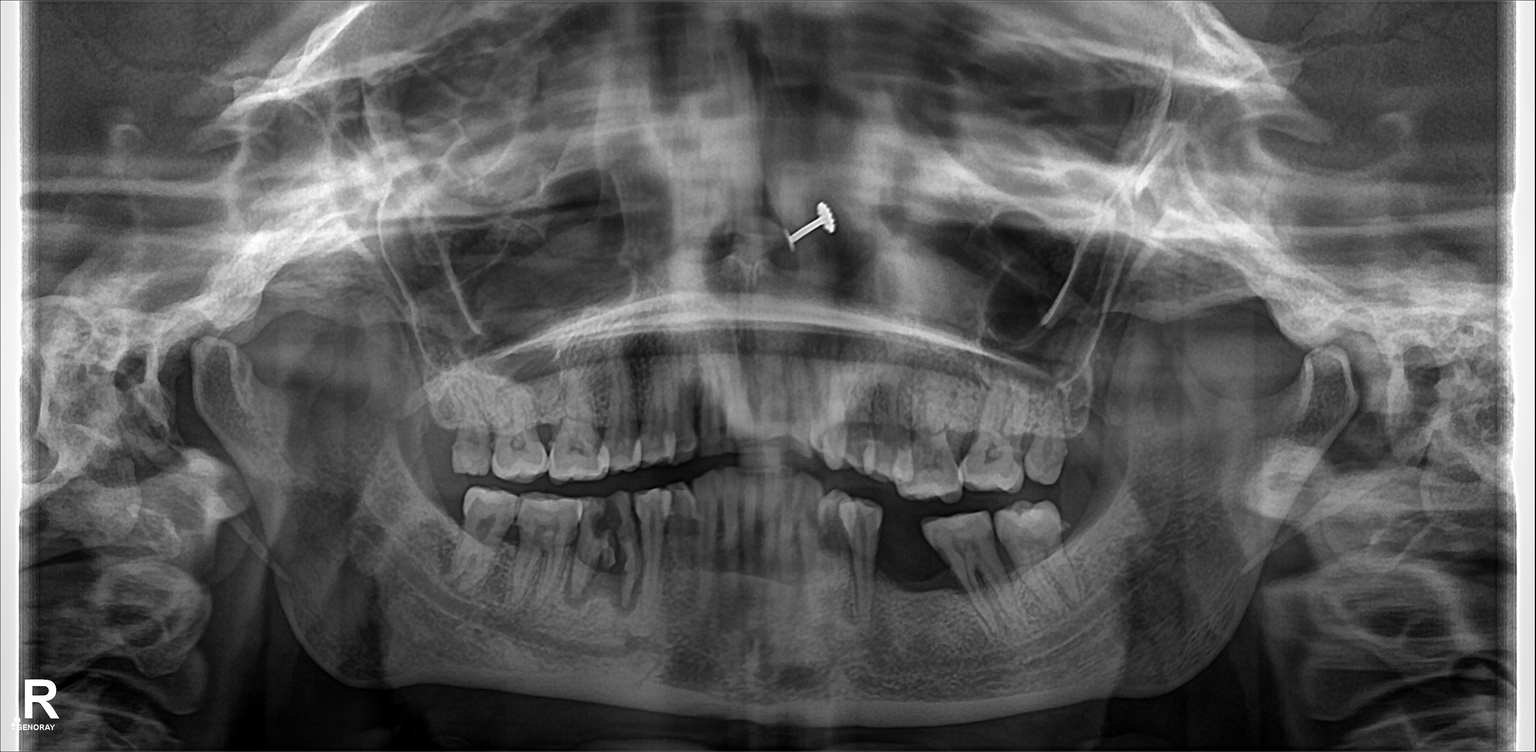Dental Caries: (590, 503, 626, 545), (983, 436, 1001, 465)
Missing Tooth: (883, 512, 933, 609), (423, 471, 468, 562), (410, 385, 457, 468), (1063, 495, 1110, 576), (1071, 391, 1107, 477)
